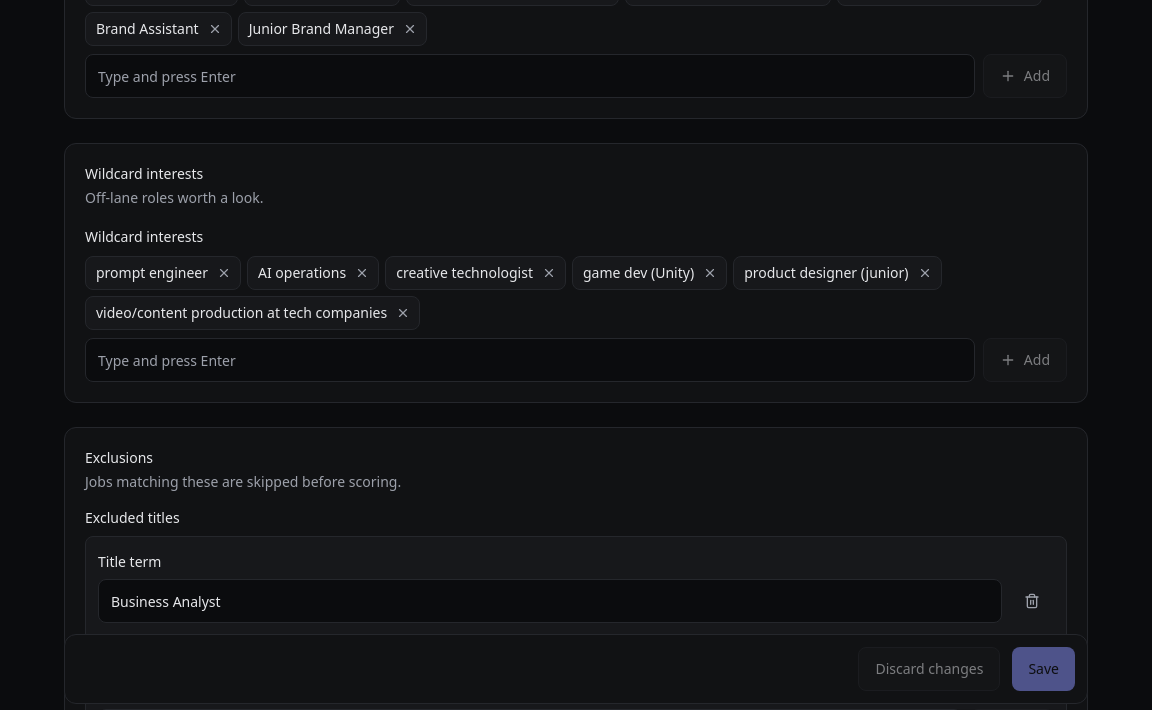
Criteria form › saves the edited list based on the current version
The image size is (1152, 710).
(page scrolled)
In the field labelled "Wildcard interests": (530, 360) [85, 338, 975, 382], type "sales engineer"
Then press Enter
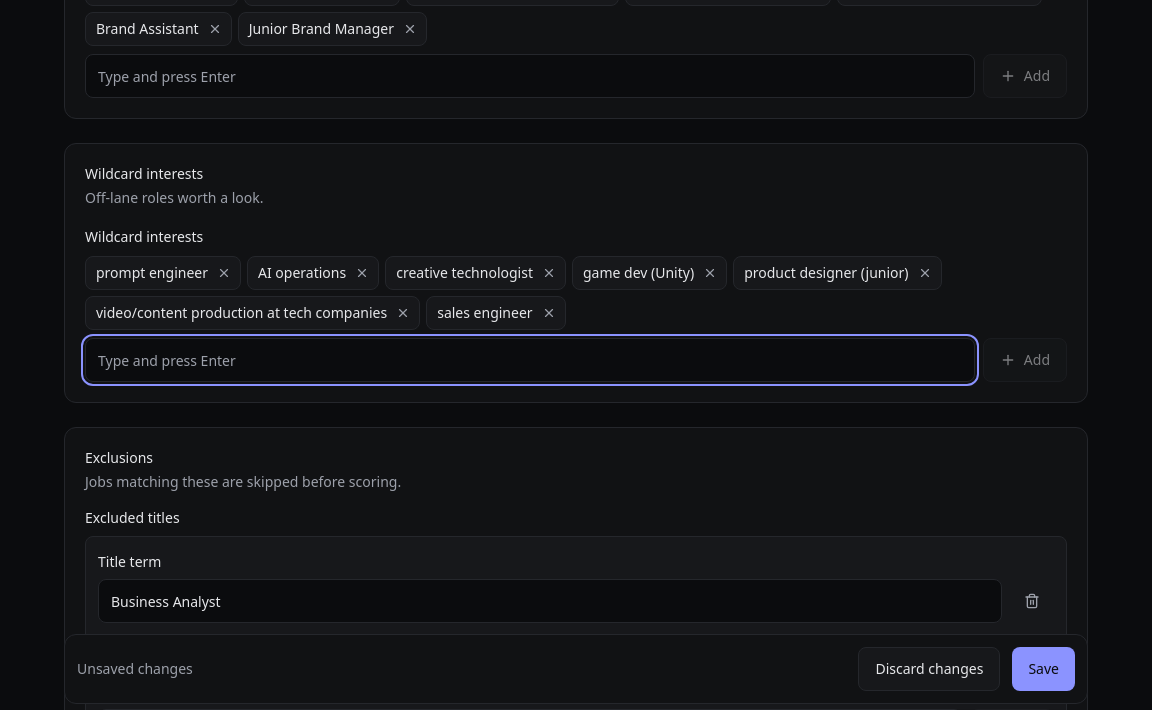
Click the button named "Remove prompt engineer": (224, 273) [212, 261, 236, 285]
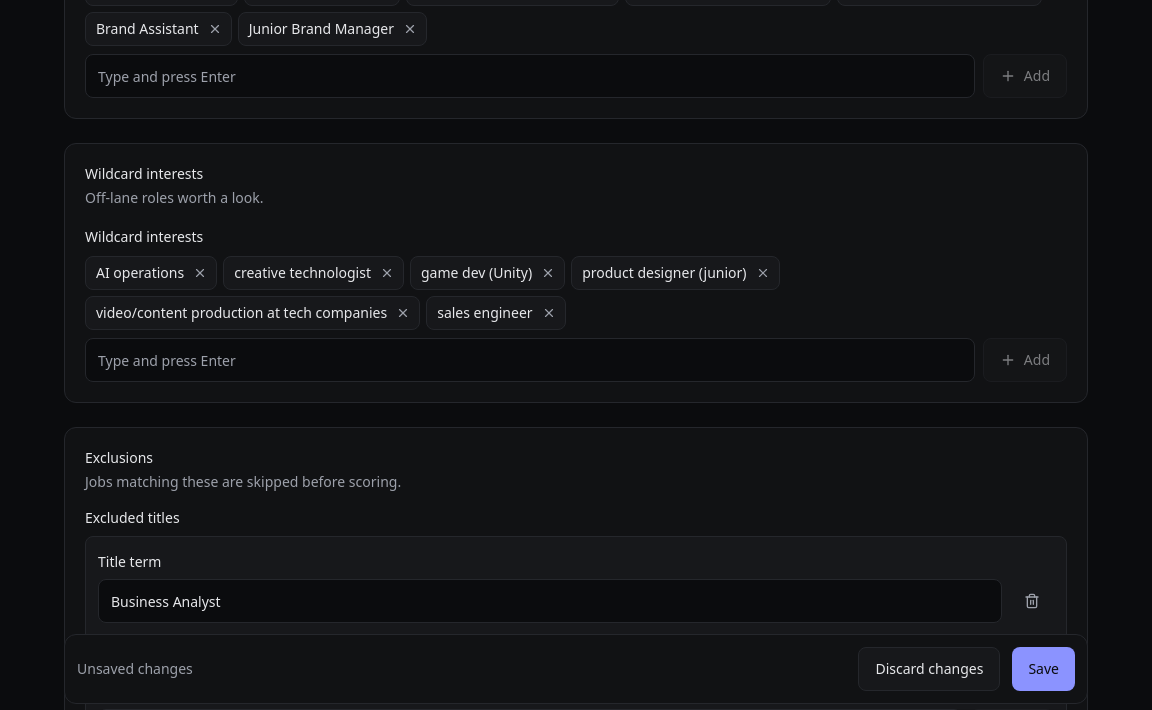
Click the button "Save": (1044, 669) [1012, 647, 1075, 691]
(page scrolled)
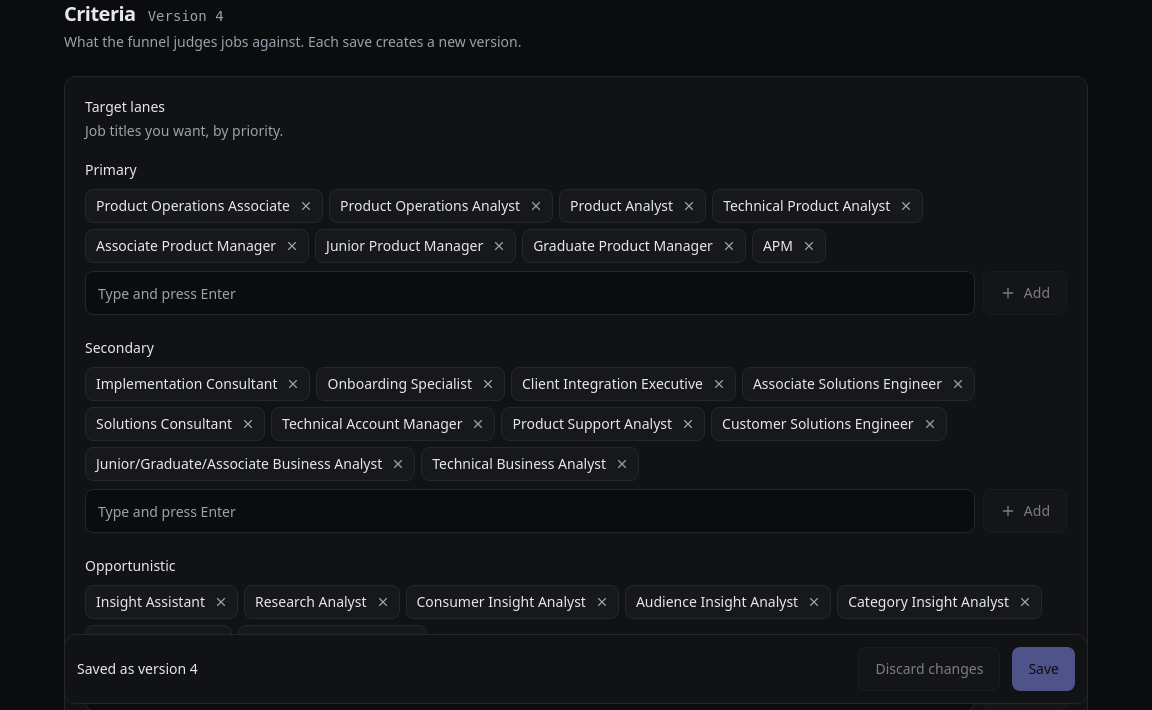
Check: the text "Saved as version 4" is shown, box [77, 659, 198, 678]
Check: the text "Version 4" is shown, box [148, 6, 224, 26]
